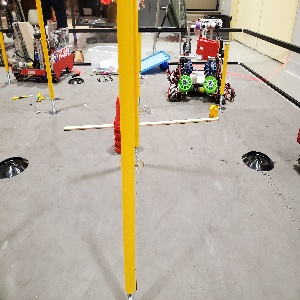Red_4: (111, 95, 121, 153)
